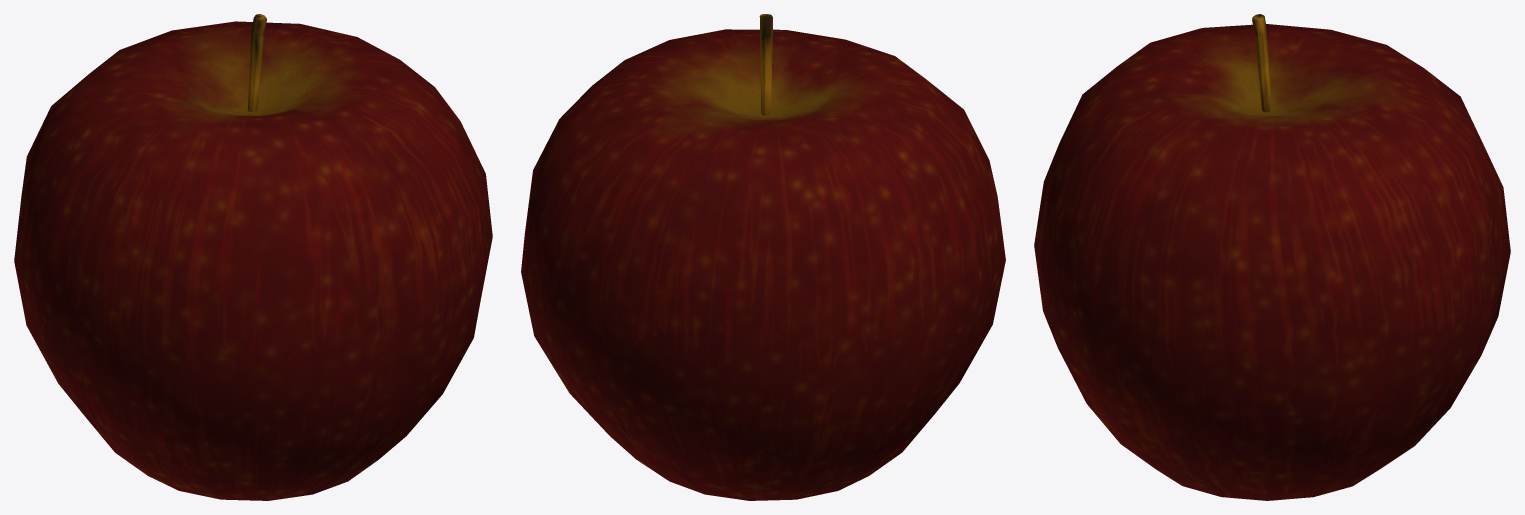
File: apple.glb
3 views of the same model, side by side, from view 1: azimuth 30°, elevation 25°; view 2: azimuth 150°, elevation 25°; view 3: azimuth 270°, elevation 25° (orthographic).
Parts seen in each view (by area): view 1: Apple Cut Low.001; view 2: Apple Cut Low.001; view 3: Apple Cut Low.001.
Boxes of the visible parts, x1=… form: Apple Cut Low.001: x1=14, y1=14, x2=492, y2=500; Apple Cut Low.001: x1=521, y1=14, x2=1005, y2=500; Apple Cut Low.001: x1=1034, y1=14, x2=1510, y2=500.
Size of the model in its own units: 0.1146 by 0.1182 by 0.1135.
Materials: 1 (1 with a texture image).
